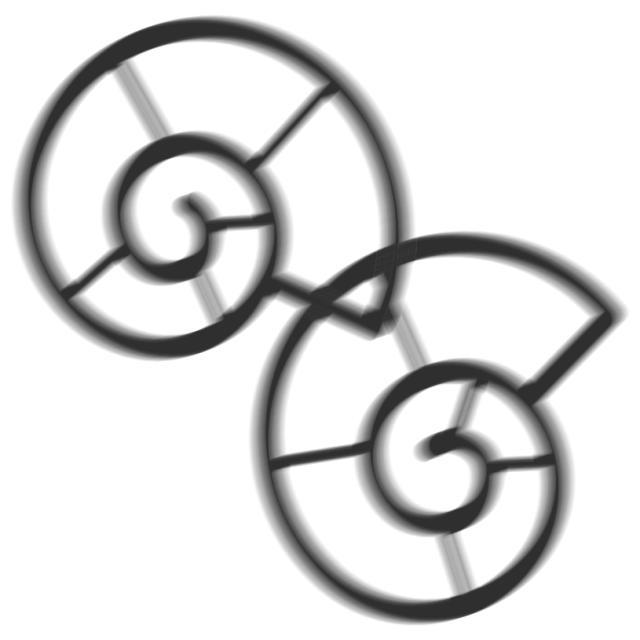fossil: (241, 220, 629, 632), (7, 2, 429, 380)
